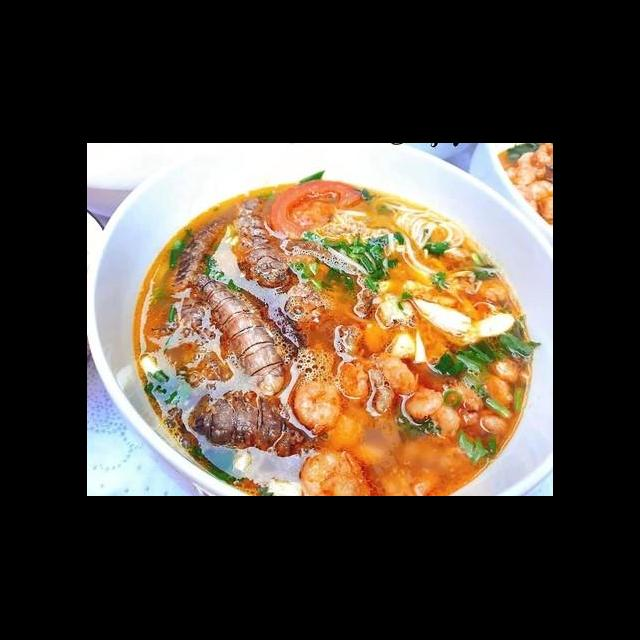bun: (329, 198, 467, 284)
tom tit: (188, 272, 299, 404), (185, 386, 318, 464), (233, 192, 297, 298), (165, 202, 237, 296)
